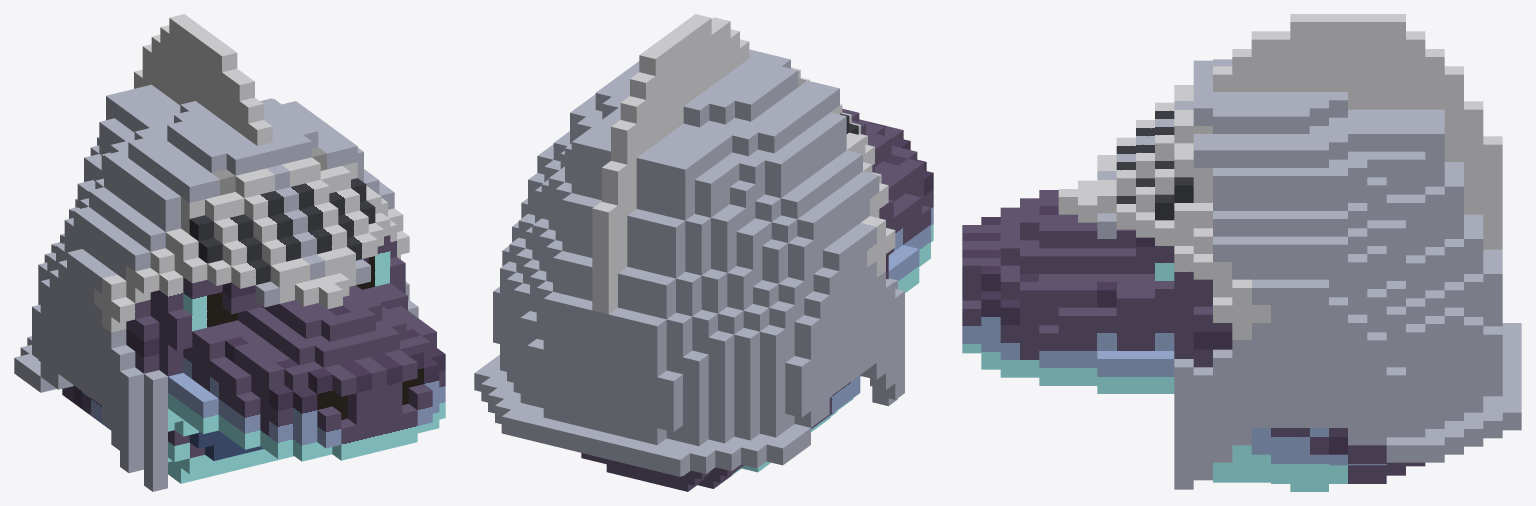
File: knight helmet.gltf
The picture shows the model from 3 angles, left to right: view 1: azimuth 30°, elevation 25°; view 2: azimuth 150°, elevation 25°; view 3: azimuth 270°, elevation 25°; orthographic projection. The views are drawn at different scales.
Visible parts, largest first — view 1: 03_Zilla_Head_Knight_Helmet-Mesh; view 2: 03_Zilla_Head_Knight_Helmet-Mesh; view 3: 03_Zilla_Head_Knight_Helmet-Mesh.
Boxes of the visible parts, x1,y1,x2,y2 form: 03_Zilla_Head_Knight_Helmet-Mesh: [14, 14, 445, 491]; 03_Zilla_Head_Knight_Helmet-Mesh: [474, 14, 933, 491]; 03_Zilla_Head_Knight_Helmet-Mesh: [962, 14, 1521, 491].
Bounding box in the file's own units: 19 × 25 × 29.
Materials: 1 (1 with a texture image).
